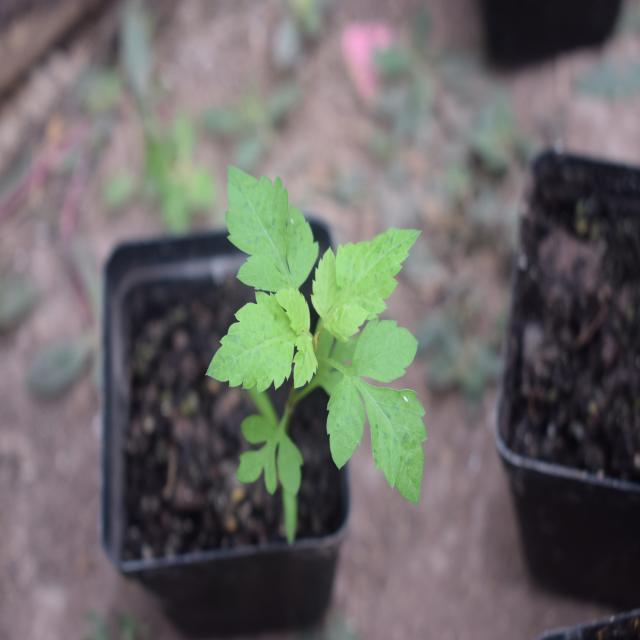Bidens pilosa: (196, 165, 441, 528)
